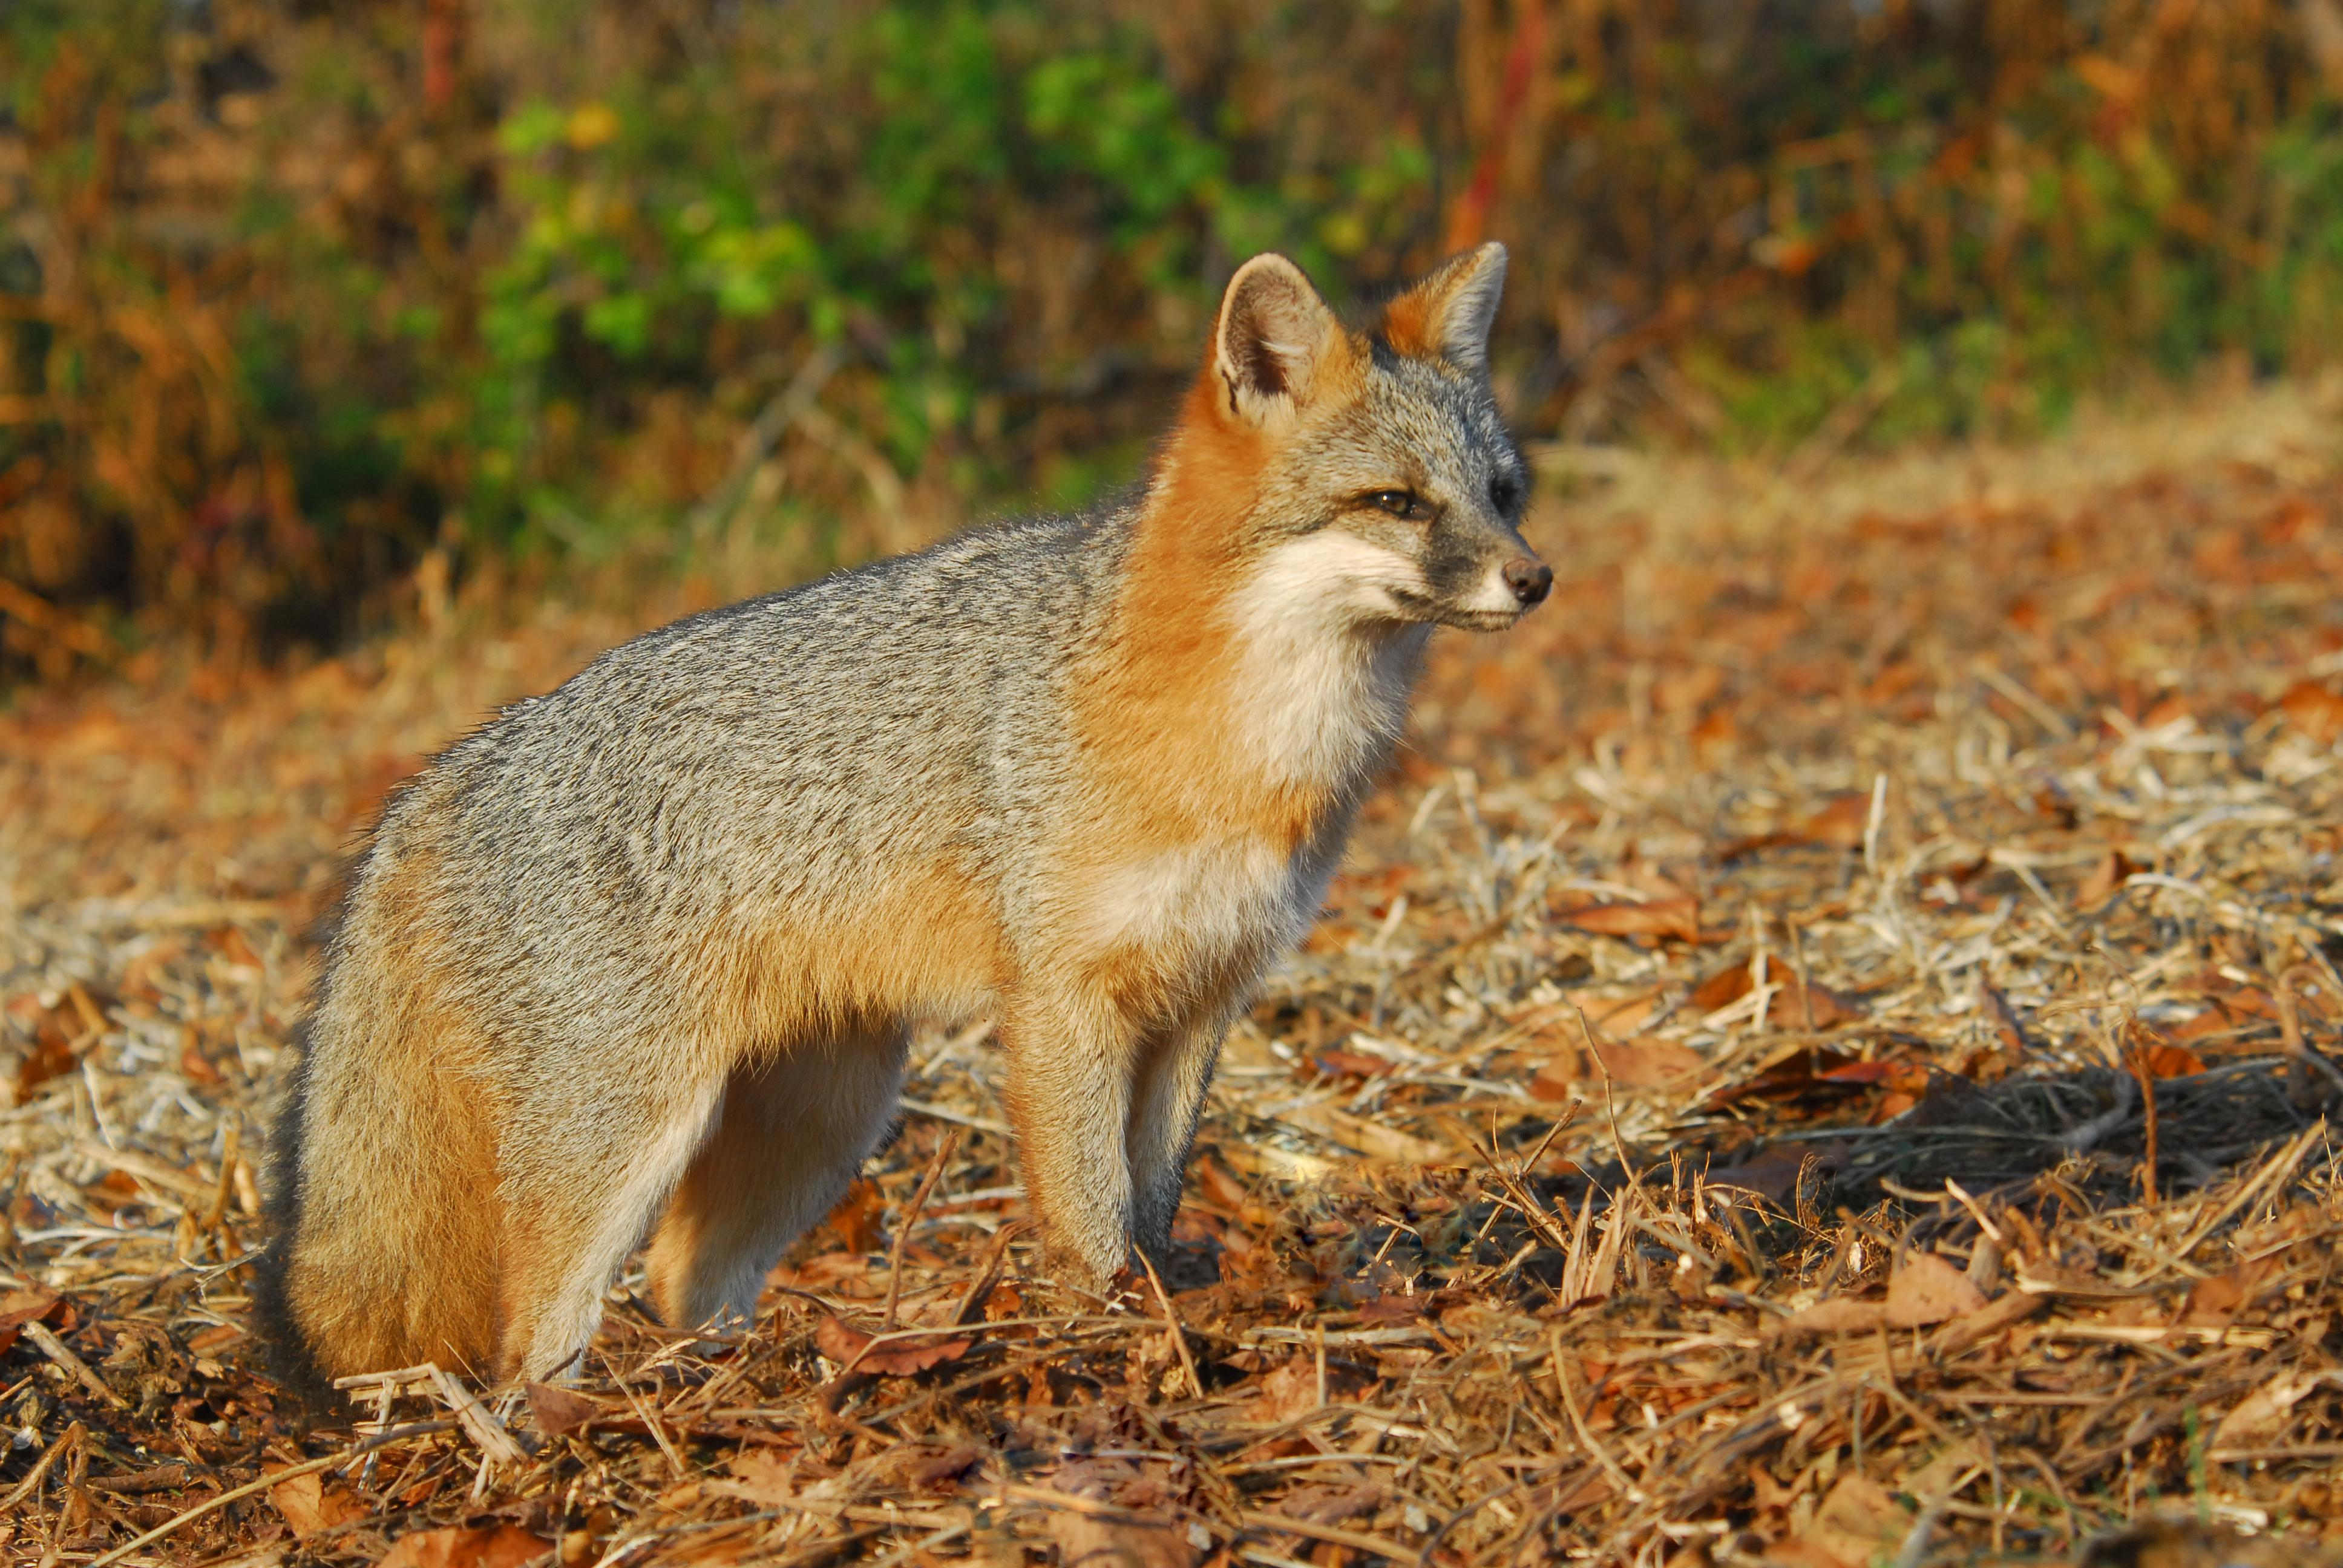fox: (84, 91, 1769, 1488)
